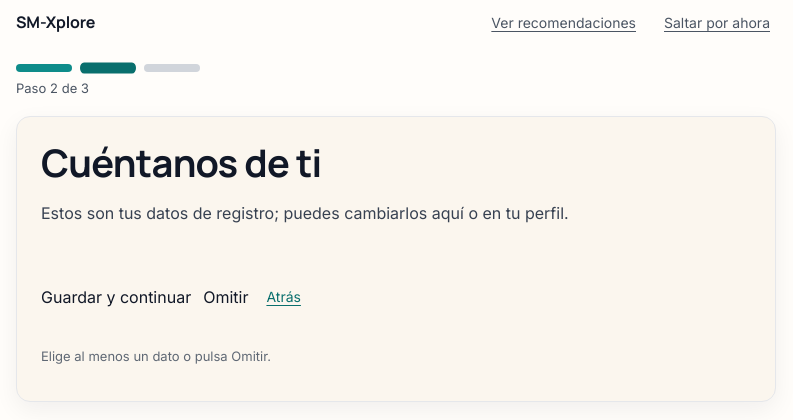
Test case: OnboardingPage › muestra las cápsulas con emoji y marca las preferencias que ya están guardadas
Expected: the heading "Cuéntanos de ti" is shown, [41,136,322,188]
Click the button "Atrás" at (284, 297), box [260,275,307,319]
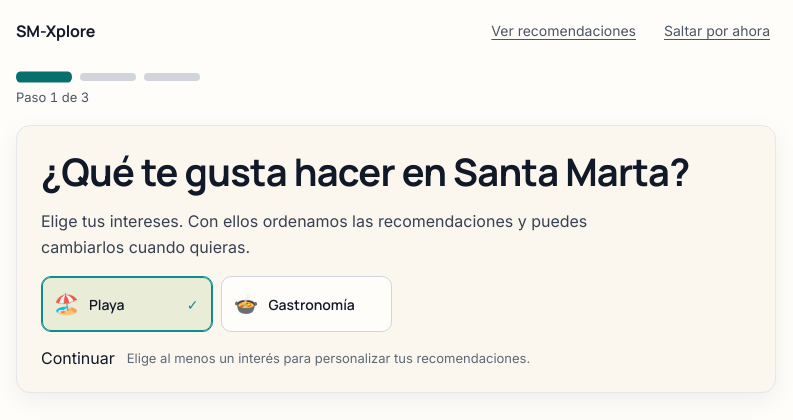
Expected: the button "🍲 Gastronomía" is shown, [220,276,392,332]
